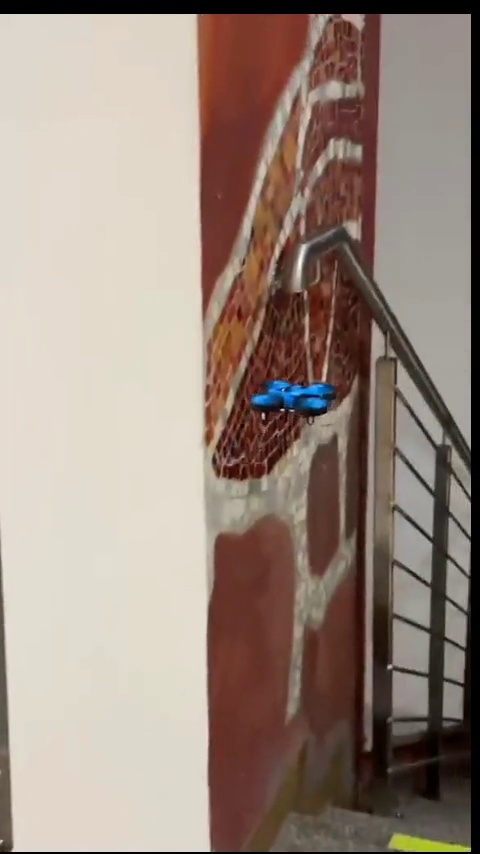drone: (252, 378, 336, 424)
